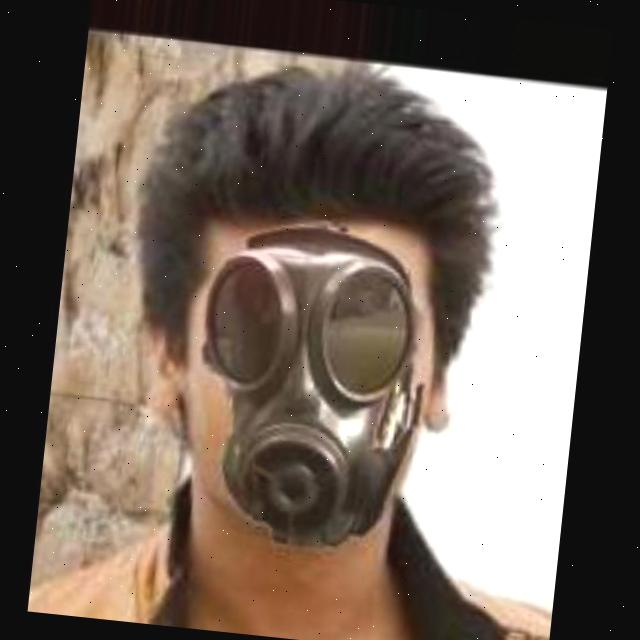suspicion: (155, 160, 451, 560)
